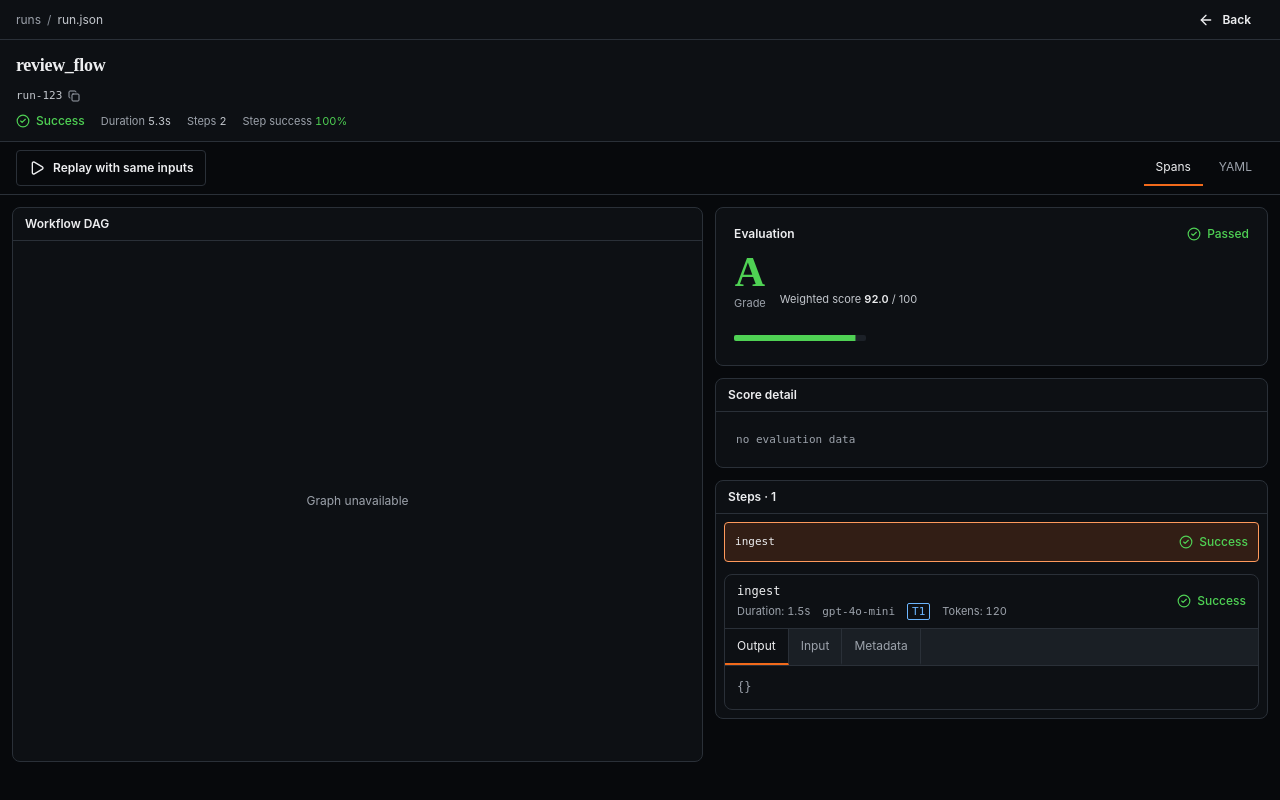
it: RunDetailPage › explains a failed replay instead of echoing the raw API error
This screenshot has width=1280, height=800.
What coordinates should you click on to do the following:
click the button "Replay with same inputs"
I would click on:
 (111, 168)
Its box is x1=16 y1=150 x2=206 y2=186.
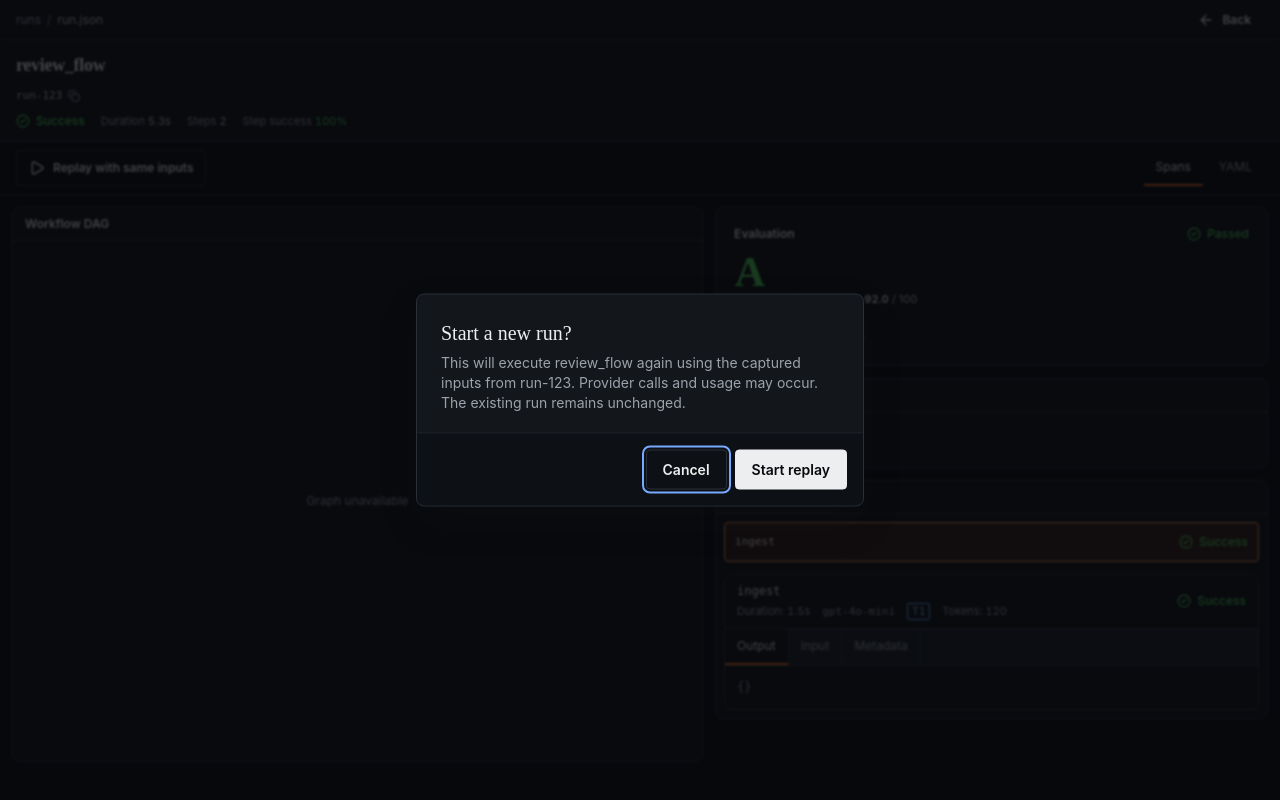
What coordinates should you click on to do the following:
click the button "Start replay"
I would click on:
 (791, 470)
Its box is x1=735 y1=450 x2=847 y2=490.
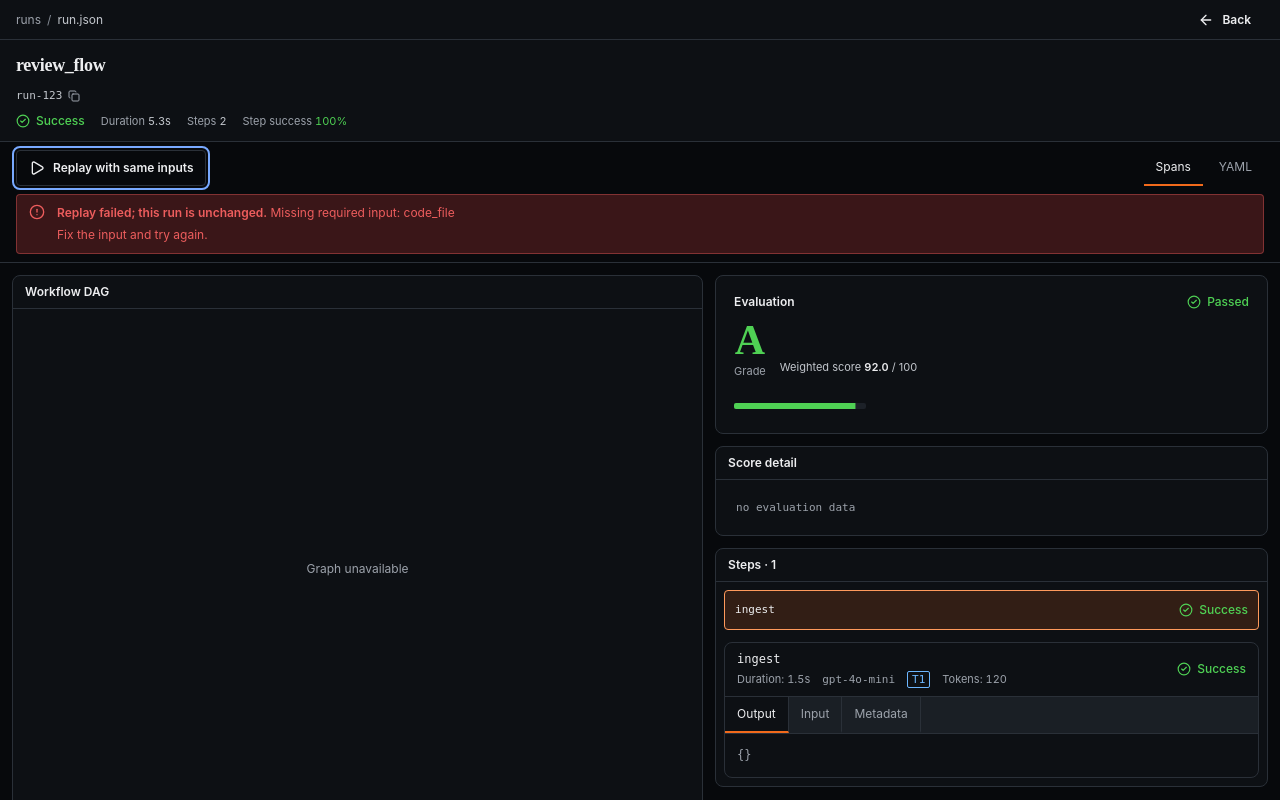
Now the message shows "Replay failed; this run is unchanged", box x1=57 y1=205 x2=267 y2=220
Now the message shows "Missing required input: code_file", box x1=270 y1=205 x2=455 y2=220
Now the message shows "fix the input and try again", box x1=57 y1=227 x2=208 y2=242
